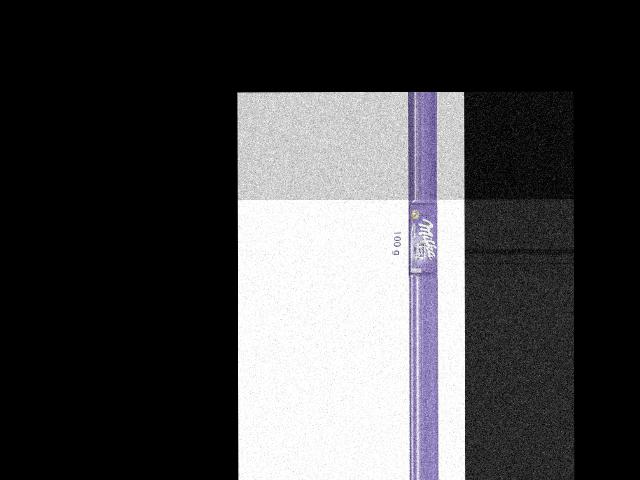chocolate: (403, 201, 438, 278)
